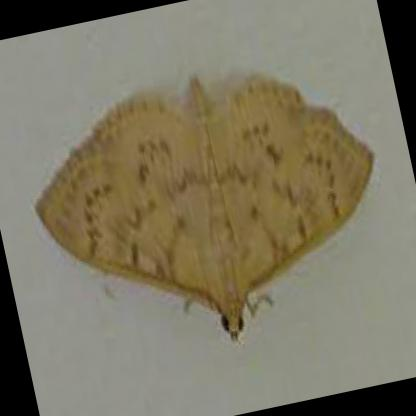Leaf Webber: (31, 75, 377, 347)
